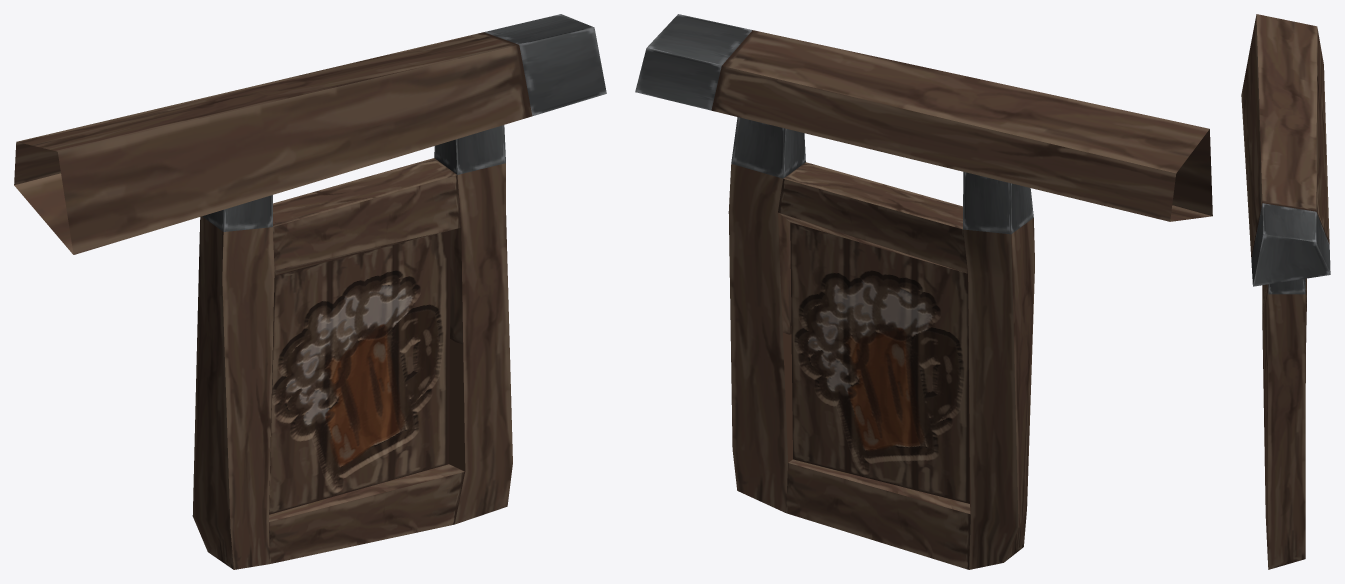
File: signboard_01.fbx
3 views of the same model, side by side, from view 1: azimuth 30°, elevation 25°; view 2: azimuth 150°, elevation 25°; view 3: azimuth 270°, elevation 25° (orthographic). The views are drawn at different scales.
Parts seen in each view (by area): view 1: signboard_01; view 2: signboard_01; view 3: signboard_01.
Boxes of the visible parts, x1,y1,x2,y2 form: signboard_01: [14, 14, 606, 569]; signboard_01: [635, 14, 1212, 569]; signboard_01: [1241, 14, 1330, 569].
Bounding box in the file's own units: 90.79 × 76.13 × 15.94.
